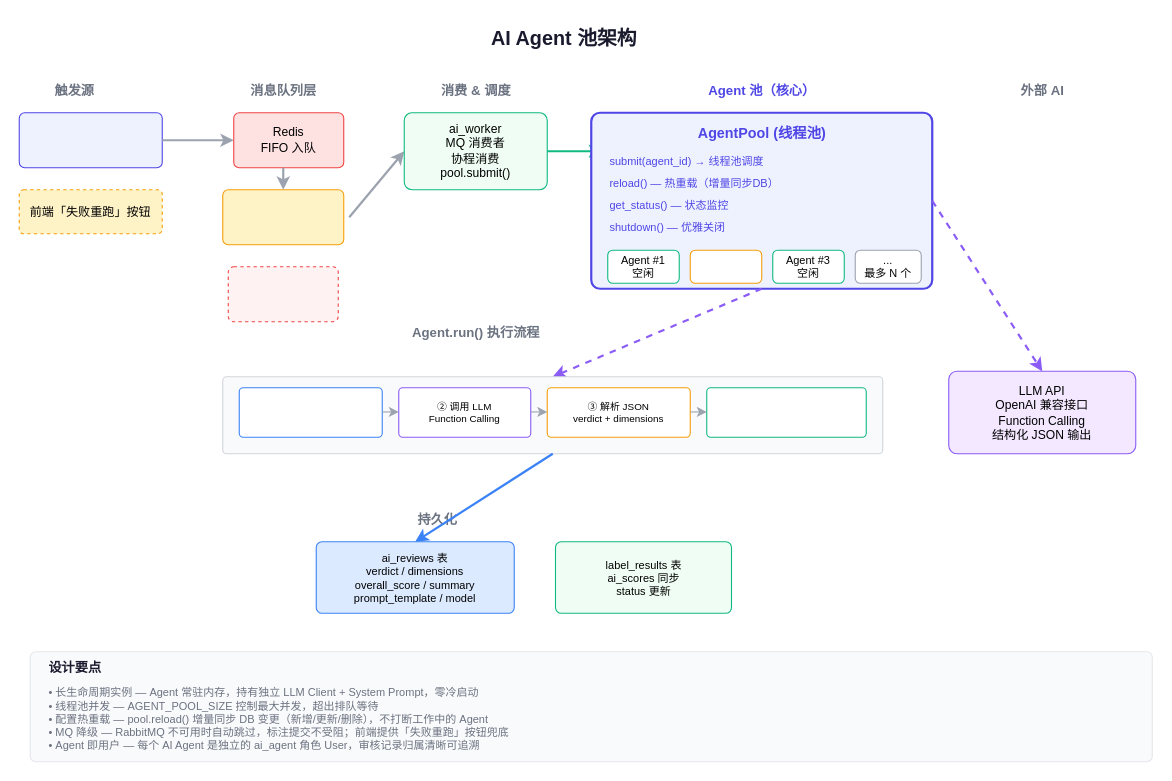
This 1172x781 diagram has some shape labels left out. The shapes that lost their labels are listed below. From the top down, each one's box as (x1, y1, x2, y2) in pixels, then its label:
(18, 112, 162, 168): Labeler 提交标注结果
(222, 189, 344, 245): RabbitMQ labelhub.ai.review
(689, 249, 762, 283): Agent #2 忙碌
(227, 266, 338, 322): ⚠ MQ 不可用时 自动跳过 标注提交不受阻
(238, 387, 382, 437): ① 渲染 Prompt {task}{item}{result}{dimensions}
(706, 387, 866, 437): ④ 写入 AiReview + 更新 Result 状态
